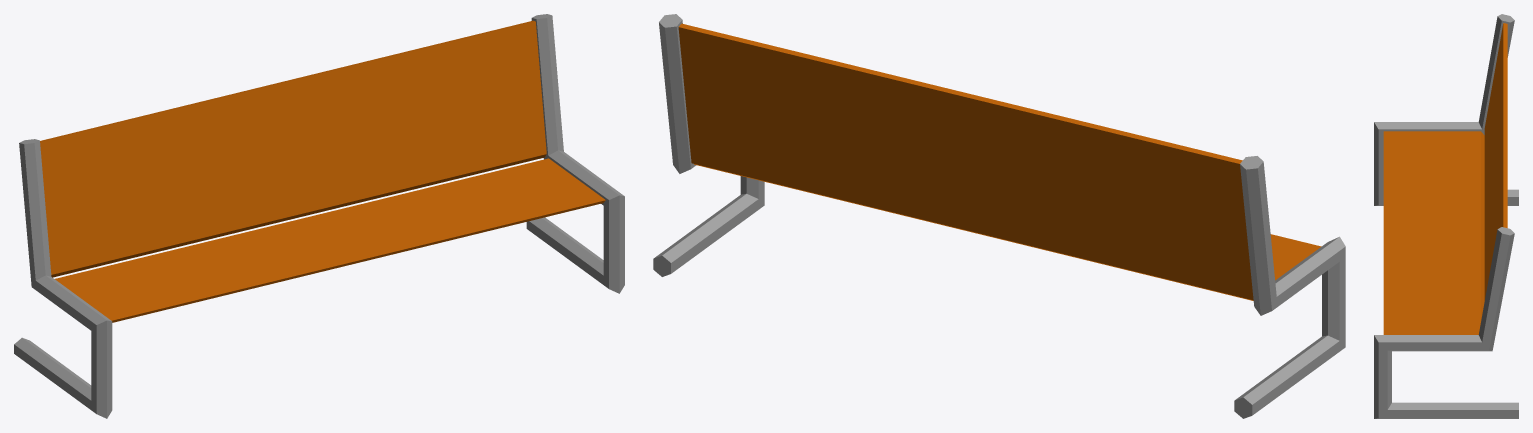
File: SM_Bench_01_06.FBX
The picture shows the model from 3 angles, left to right: view 1: azimuth 30°, elevation 25°; view 2: azimuth 150°, elevation 25°; view 3: azimuth 270°, elevation 25°; orthographic projection. The views are drawn at different scales.
Visible parts, largest first — view 1: SM_Bench_01_06; view 2: SM_Bench_01_06; view 3: SM_Bench_01_06.
Part boxes in pixels (x1,y1,x2,y2): SM_Bench_01_06: (14, 14, 624, 418); SM_Bench_01_06: (653, 14, 1345, 418); SM_Bench_01_06: (1374, 14, 1518, 418).
Size of the model in its own units: 1.7 by 0.6865 by 0.4749.
Materials: 1 (1 with a texture image).
